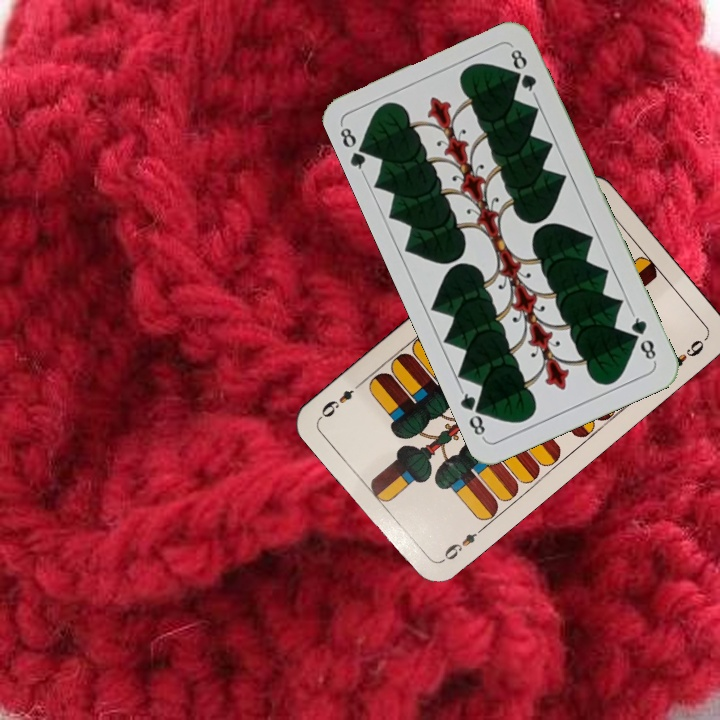E9: (437, 523, 487, 565)
G8: (335, 121, 374, 177), (627, 309, 659, 365)
